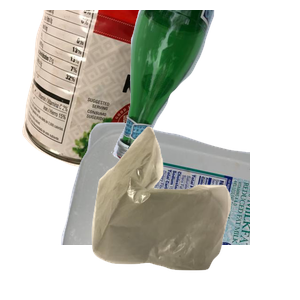glass: (109, 10, 300, 167)
metal: (20, 10, 199, 172)
plastic: (58, 120, 298, 300)
trash: (89, 124, 300, 300)
